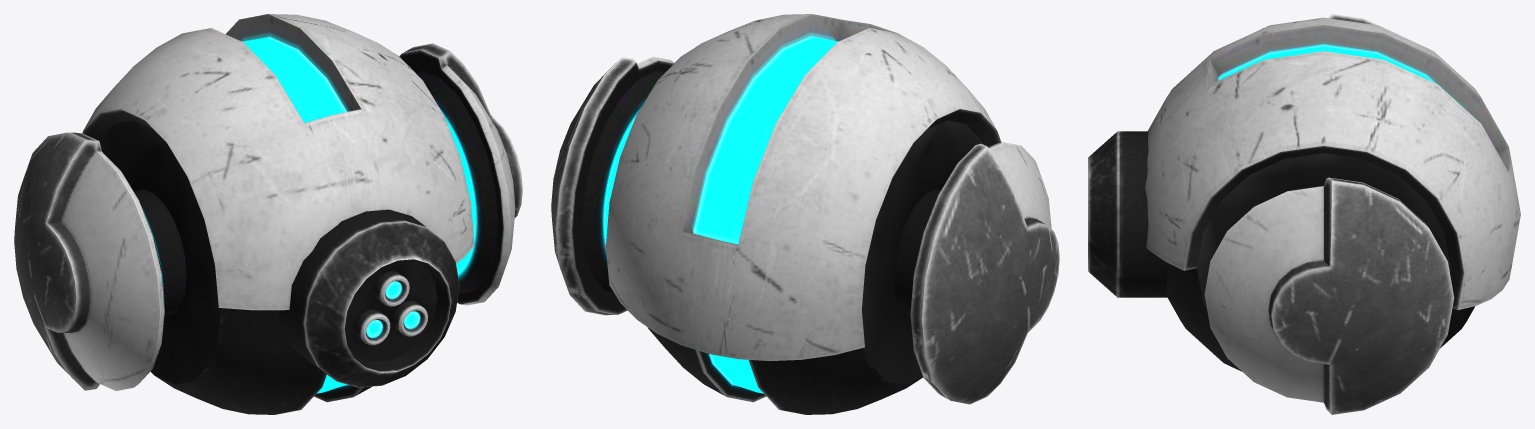
The model's file is turret-0-3.glb.
3 renders of one model, left to right at view 1: azimuth 30°, elevation 25°; view 2: azimuth 150°, elevation 25°; view 3: azimuth 270°, elevation 25°, orthographic. The views are drawn at different scales.
Visible parts, largest first — view 1: turret-0-3_0; view 2: turret-0-3_0; view 3: turret-0-3_0.
Boxes of the visible parts, x1,y1,x2,y2 form: turret-0-3_0: [14, 14, 522, 414]; turret-0-3_0: [551, 14, 1059, 414]; turret-0-3_0: [1088, 14, 1520, 414].
Size of the model in its own units: 1 by 0.7477 by 0.8704.
1 material, 1 textured.
